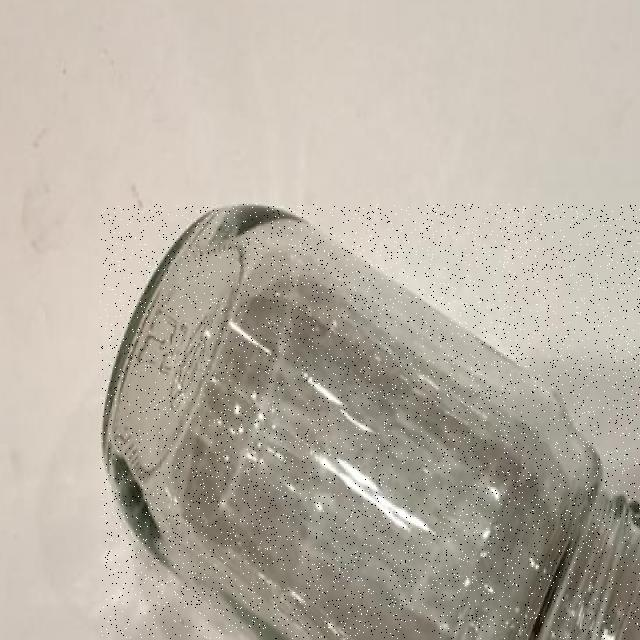glass: (100, 205, 640, 640)
